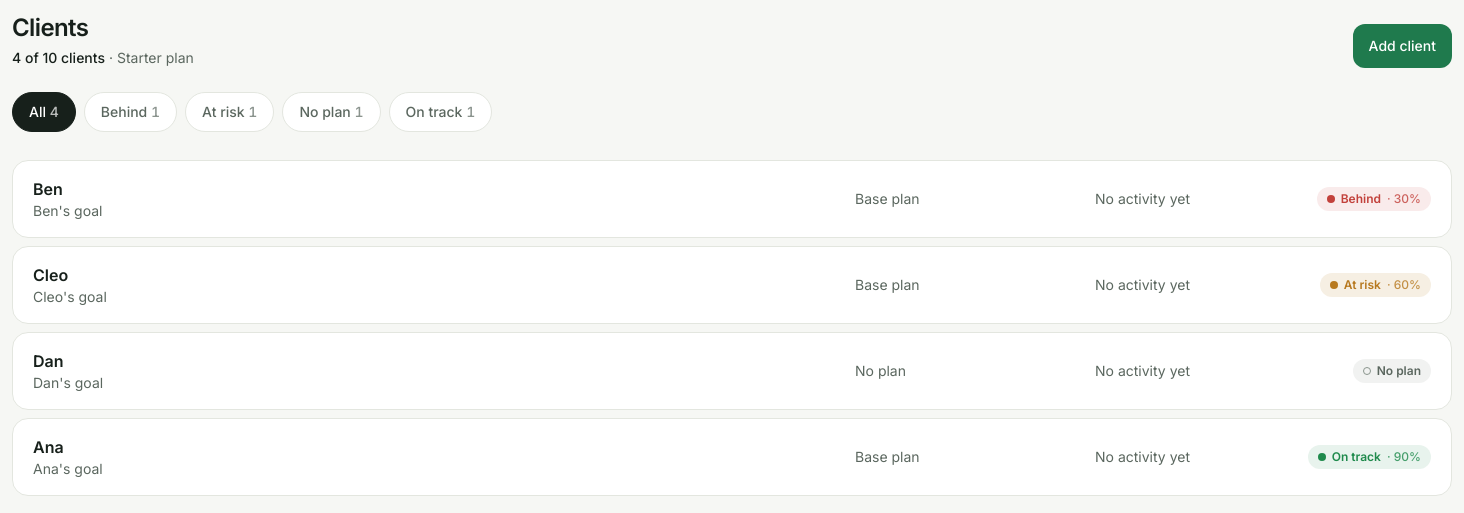
Test: DashboardPage › filters by status
Click the button "At risk 1": (230, 112) [185, 92, 274, 132]
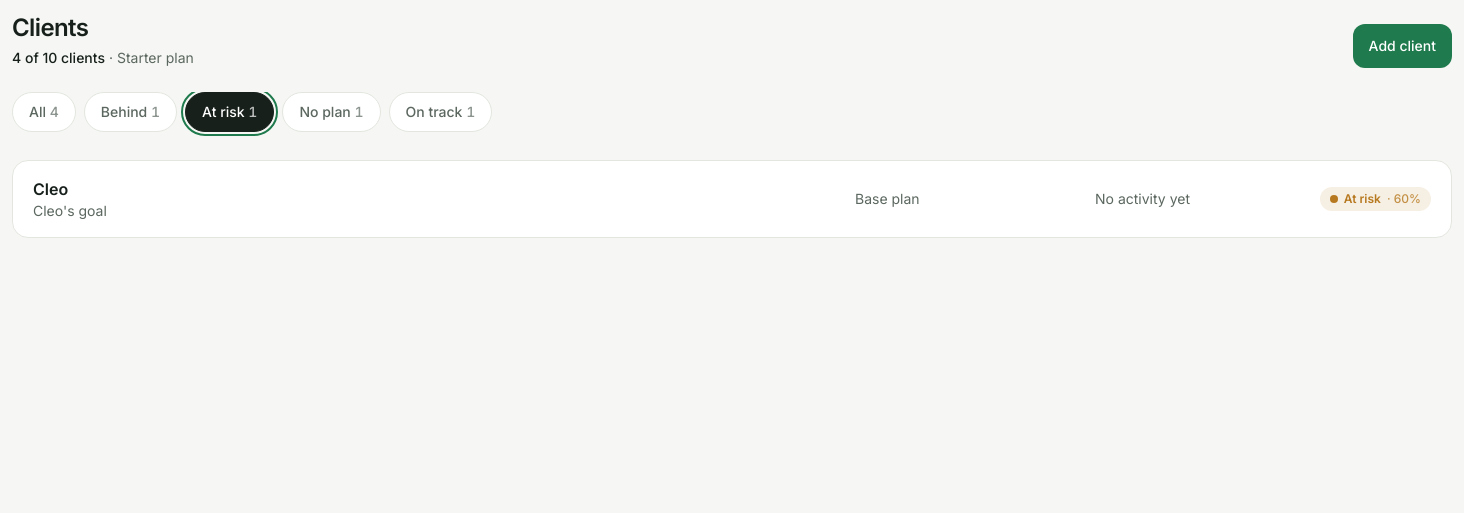
Now the button "At risk 1" is pressed, box [185, 92, 274, 132]
Click the button "All 4": (44, 112) [12, 92, 76, 132]
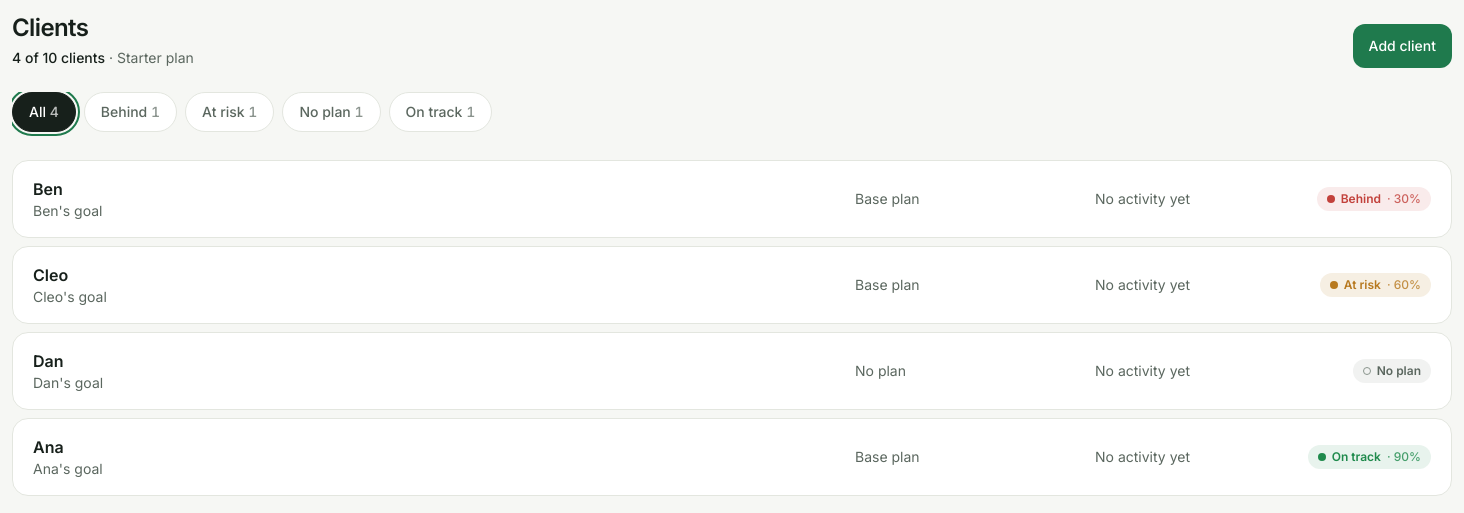
Now the number of links is 4, box [12, 160, 1452, 238]; [12, 246, 1452, 324]; [12, 332, 1452, 410]; [12, 418, 1452, 496]
